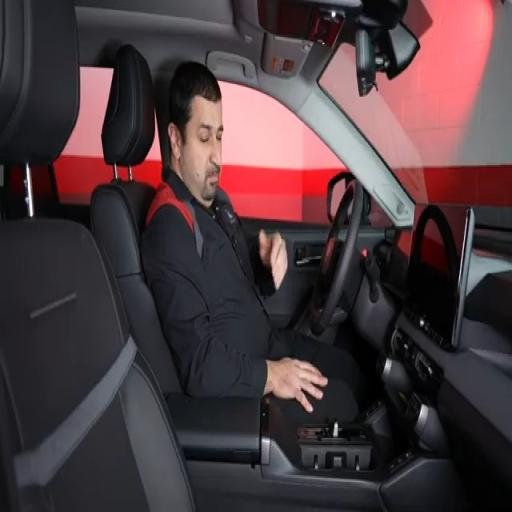side_mirror: (327, 171, 355, 223), (327, 171, 353, 221)
window: (220, 82, 345, 224)
windshield: (320, 0, 511, 206)
